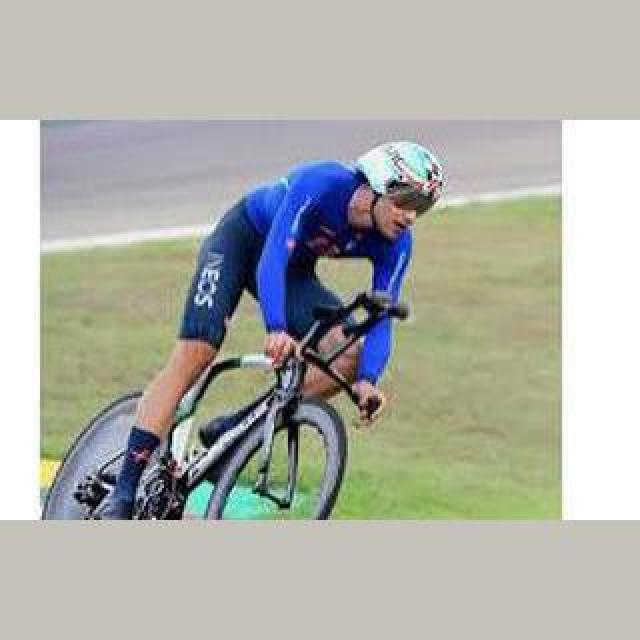MC-Bike: (92, 136, 452, 520)
Person: (43, 290, 411, 520)
